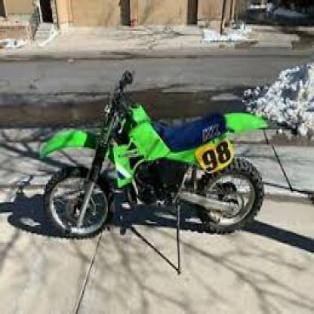Motocicleta: (35, 62, 276, 254)
